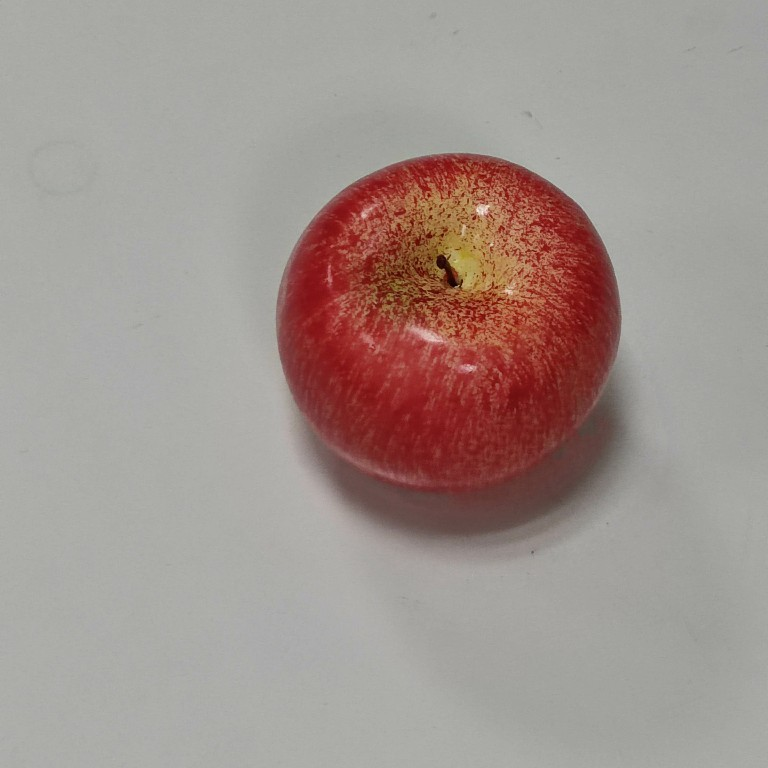fruit_apple: (268, 145, 630, 500)
